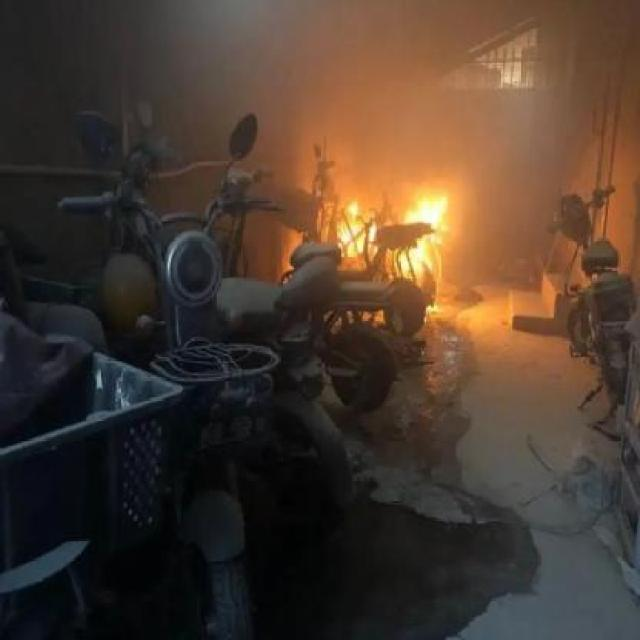Fire: (326, 198, 368, 252), (404, 193, 450, 224), (401, 239, 434, 278)
Smoke: (276, 13, 396, 210), (392, 90, 500, 202)
